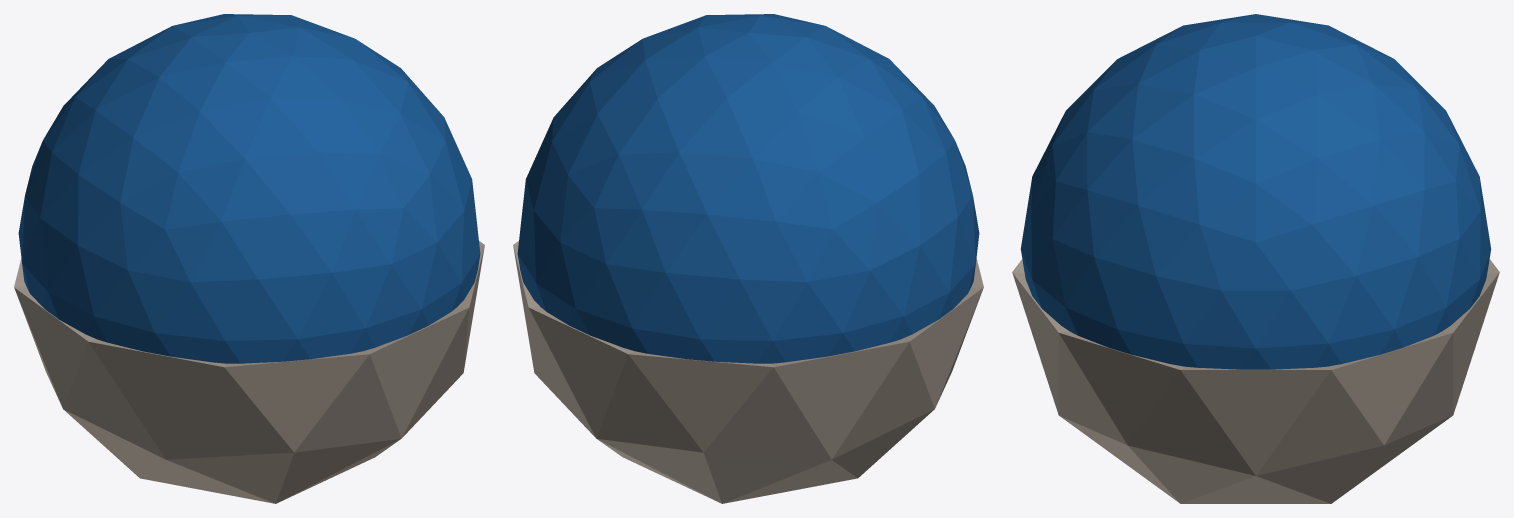
File: character2.0.fbx
3 renders of one model, left to right at view 1: azimuth 30°, elevation 25°; view 2: azimuth 150°, elevation 25°; view 3: azimuth 270°, elevation 25°, orthographic.
Parts seen in each view (by area): view 1: Icosphere.001; view 2: Icosphere.001; view 3: Icosphere.001.
Part boxes in pixels (x1,y1,x2,y2): Icosphere.001: (14,14,484,503); Icosphere.001: (513,14,983,503); Icosphere.001: (1012,14,1499,503).
Size of the model in its own units: 193 by 207 by 200.
